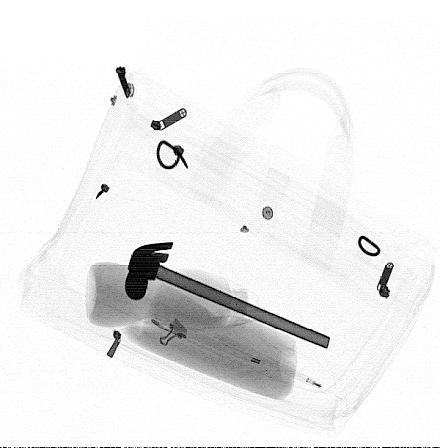Hammer: (124, 241, 331, 350)
